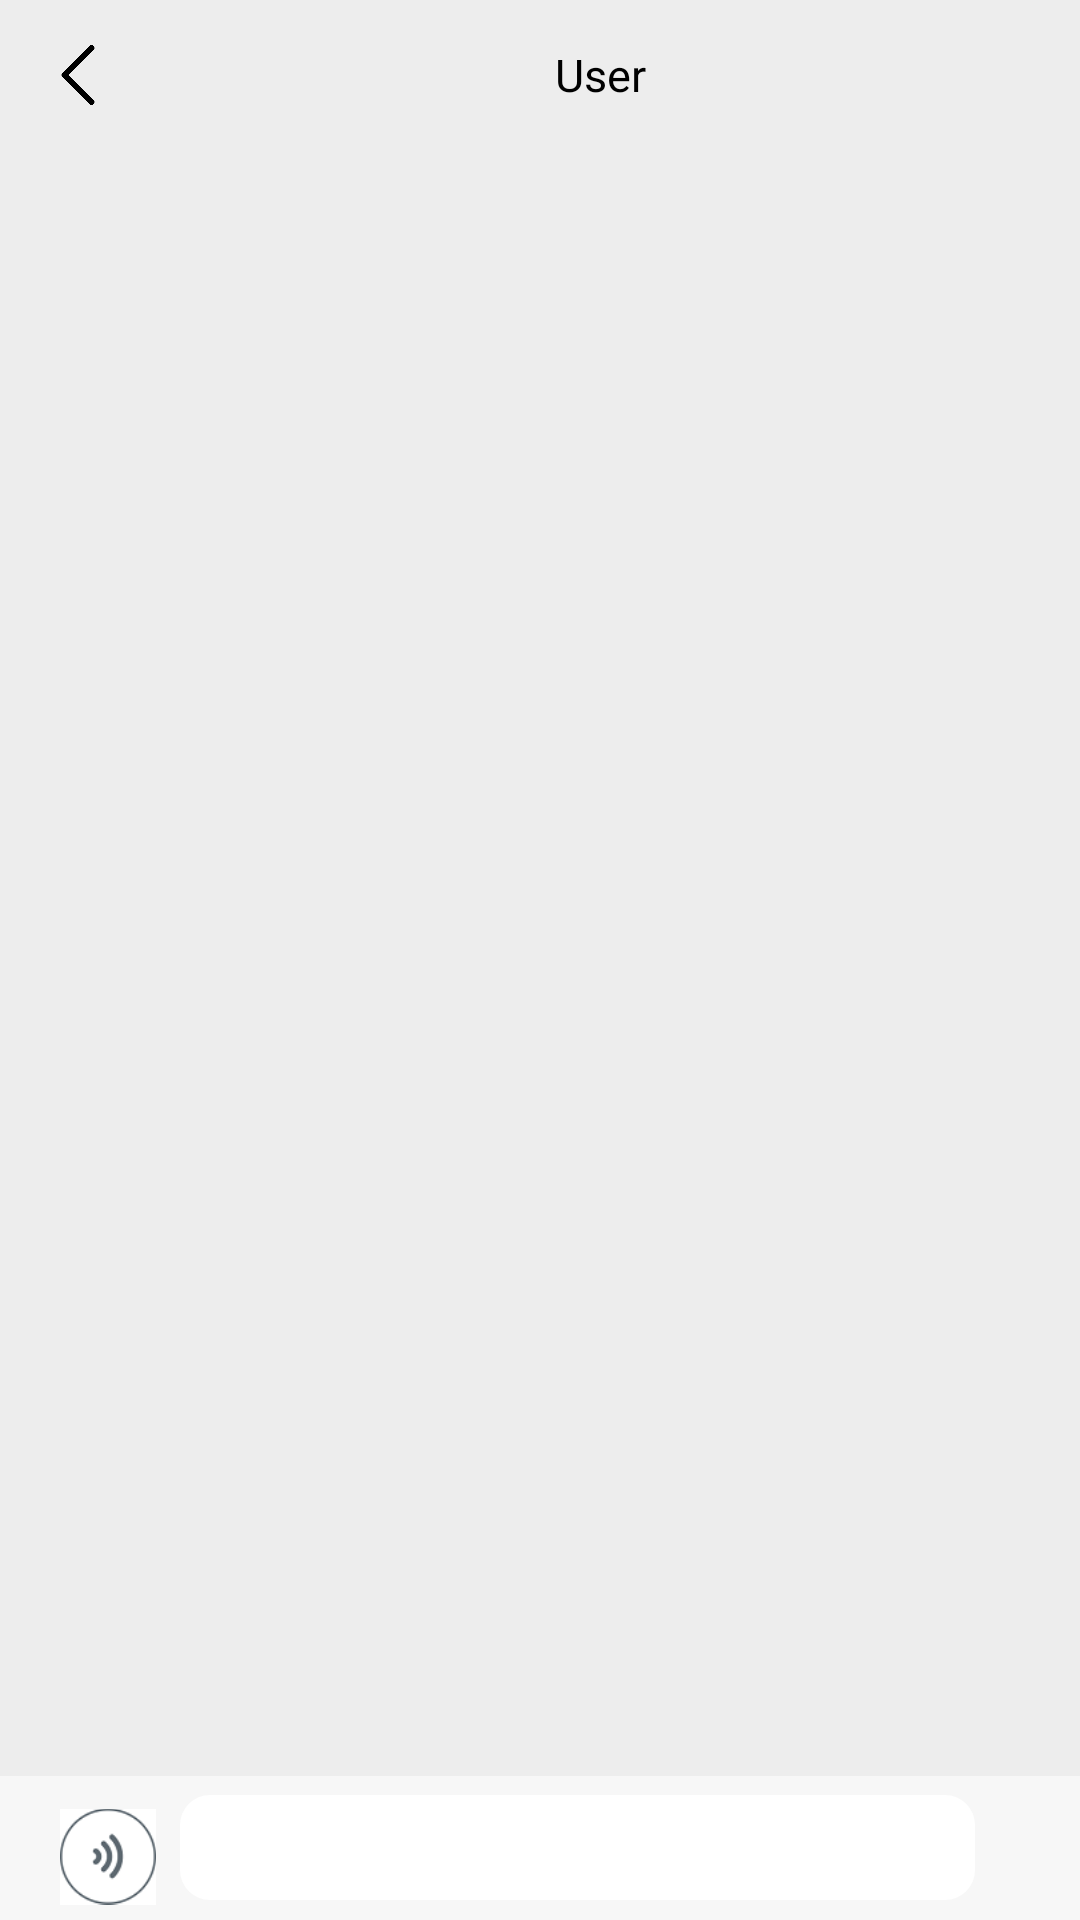

Named icons in this screenshot (1080 x 1920) and their bounding boxes, (x1, y1, x2, y2):
talk source: (60, 1809, 156, 1905)
